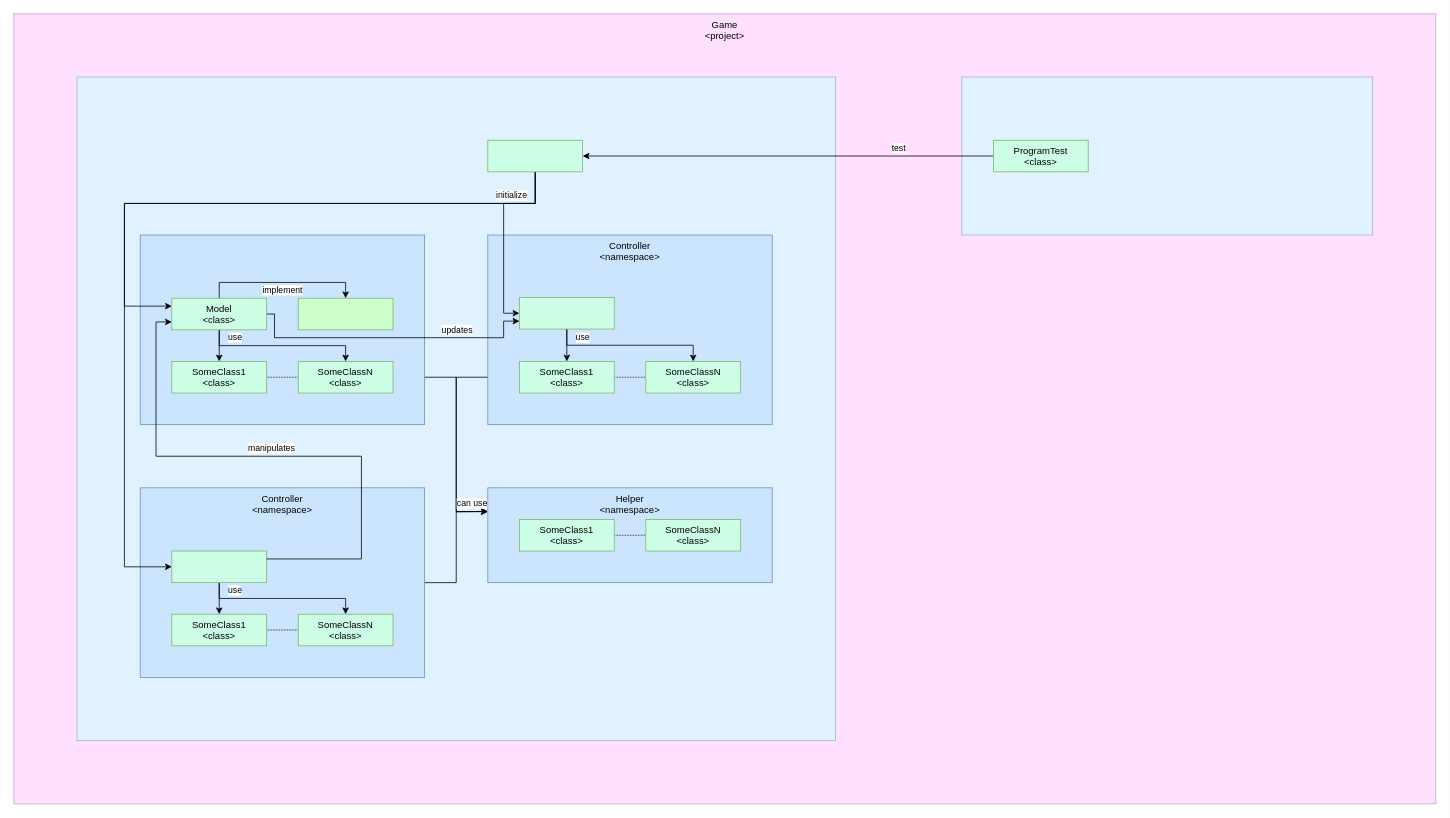
The diagram is 1450 pixels wide and 818 high, and some of its shapes have lost their labels. The shapes that lost their labels are listed below. From the top down, each one's box as (x1, y1, x2, y2) in pixels, then its label:
(487, 139, 583, 172): Program <class>
(961, 76, 1373, 235): UnitTestForrestAdventure <solution>
(139, 234, 425, 425): Model <namespace>
(297, 297, 393, 330): IModel <interface>
(519, 297, 614, 329): View <class>
(76, 76, 835, 741): ForrestAdventure <solution>
(171, 550, 267, 583): Controller <class>
